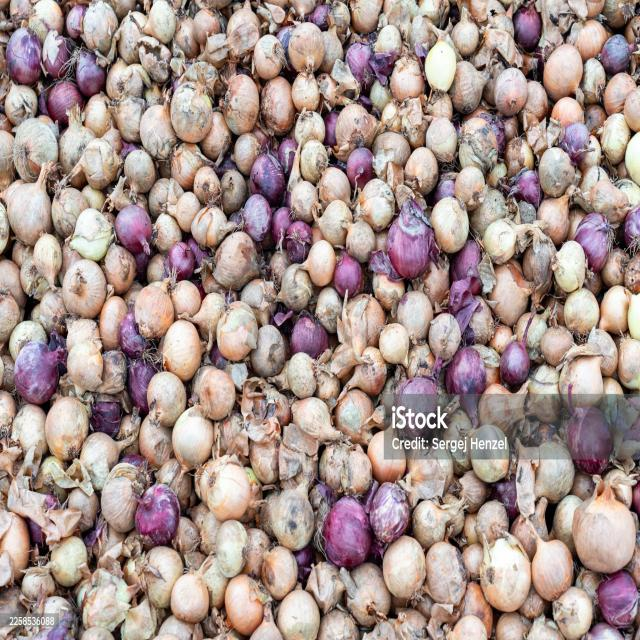rotten: (572, 478, 636, 574), (478, 531, 532, 612), (6, 160, 56, 247), (80, 566, 138, 634), (527, 522, 575, 603), (386, 199, 434, 280), (566, 389, 612, 470), (323, 493, 373, 567), (13, 339, 66, 403), (211, 230, 262, 294), (204, 457, 254, 522), (342, 560, 388, 630), (484, 261, 531, 329), (424, 540, 468, 610), (413, 492, 468, 548), (61, 258, 108, 322), (169, 76, 213, 144), (266, 486, 312, 550), (45, 397, 90, 462), (12, 117, 57, 182), (171, 406, 215, 472), (224, 573, 269, 637), (382, 537, 424, 605), (135, 483, 180, 546), (57, 103, 95, 177), (66, 209, 116, 264), (142, 546, 184, 610), (331, 387, 378, 444), (344, 292, 387, 354), (78, 432, 123, 491), (396, 374, 438, 437), (217, 301, 260, 362), (100, 471, 142, 533), (445, 345, 487, 407), (222, 73, 262, 138), (522, 226, 560, 294), (478, 386, 524, 442), (139, 95, 178, 161), (160, 320, 202, 381), (134, 282, 176, 343), (369, 481, 409, 545), (542, 43, 584, 103), (559, 350, 604, 406), (305, 560, 347, 620), (77, 134, 121, 190), (573, 213, 613, 274), (596, 570, 638, 628), (469, 425, 511, 482), (532, 445, 574, 502), (457, 119, 499, 176), (145, 371, 186, 428), (170, 566, 210, 624), (260, 543, 300, 601), (196, 366, 237, 422), (259, 76, 296, 138), (65, 338, 105, 395), (214, 520, 252, 580), (468, 187, 510, 241), (189, 292, 228, 350), (403, 450, 448, 500), (430, 196, 468, 255), (10, 403, 48, 462), (276, 588, 319, 640), (553, 586, 594, 640), (292, 395, 338, 443), (586, 175, 632, 223), (6, 26, 42, 86), (448, 59, 487, 114), (334, 101, 373, 156), (49, 536, 90, 588), (138, 412, 176, 468), (25, 486, 61, 545), (526, 362, 565, 416), (109, 91, 148, 145), (190, 203, 232, 253), (550, 240, 588, 295), (114, 203, 152, 258), (82, 0, 118, 58), (51, 185, 87, 243), (599, 394, 635, 452), (287, 21, 325, 75), (0, 512, 31, 578), (538, 146, 577, 198), (250, 152, 286, 208), (356, 180, 394, 233), (563, 286, 600, 340), (339, 445, 375, 500), (249, 326, 287, 378), (200, 552, 234, 610), (367, 430, 402, 486), (551, 495, 584, 554), (396, 290, 432, 344), (126, 355, 160, 412), (536, 191, 572, 244), (451, 238, 485, 294), (290, 310, 328, 360), (479, 25, 521, 70), (493, 66, 529, 118), (598, 111, 632, 166), (32, 232, 63, 292), (429, 311, 463, 365), (103, 242, 137, 296), (225, 1, 261, 52), (346, 38, 380, 92), (481, 217, 518, 266), (199, 110, 233, 163), (584, 326, 618, 379), (240, 192, 274, 245), (169, 140, 205, 190), (317, 198, 353, 248), (8, 319, 46, 366), (248, 436, 282, 488), (328, 56, 362, 108), (181, 59, 223, 101), (389, 54, 424, 104), (403, 147, 438, 197), (459, 582, 492, 635), (114, 10, 145, 66), (600, 284, 632, 338), (573, 18, 609, 66), (47, 79, 83, 127), (135, 36, 171, 84), (41, 29, 74, 81), (252, 32, 287, 81), (474, 499, 509, 548), (123, 147, 158, 196), (98, 294, 128, 351), (444, 406, 474, 463), (280, 263, 314, 313), (602, 72, 637, 120), (420, 255, 451, 309), (37, 593, 75, 637), (302, 239, 336, 288), (286, 351, 320, 400), (165, 190, 202, 235), (424, 40, 456, 92), (372, 130, 408, 176), (510, 506, 540, 560), (242, 528, 273, 580), (142, 0, 177, 46), (290, 68, 322, 118), (97, 348, 129, 398), (514, 311, 548, 358), (65, 486, 99, 533), (343, 218, 376, 266), (288, 180, 321, 228), (240, 278, 276, 322), (19, 561, 55, 605), (512, 1, 543, 52), (317, 165, 352, 210), (424, 118, 456, 167), (540, 322, 574, 368), (35, 456, 70, 500), (372, 269, 406, 314), (298, 139, 329, 188), (333, 250, 364, 299), (169, 278, 202, 324), (4, 82, 37, 128), (506, 168, 542, 210), (118, 306, 147, 358), (232, 131, 264, 178), (378, 322, 409, 370), (192, 3, 223, 51), (216, 410, 247, 458), (559, 121, 592, 166), (454, 165, 486, 211), (76, 48, 106, 97), (194, 507, 224, 556), (293, 108, 326, 152), (316, 607, 360, 640), (405, 341, 438, 385), (314, 285, 344, 333), (467, 299, 496, 348), (456, 471, 489, 514), (37, 287, 67, 334), (575, 567, 605, 614), (82, 93, 112, 139), (151, 212, 183, 255), (0, 258, 25, 313), (219, 168, 247, 216), (600, 33, 631, 76), (346, 146, 374, 193), (172, 17, 201, 62), (165, 241, 196, 283), (95, 521, 126, 563), (319, 23, 344, 75), (616, 334, 640, 388), (580, 57, 607, 105), (0, 586, 27, 634), (148, 178, 178, 221), (193, 164, 222, 208), (64, 317, 100, 352), (392, 606, 429, 640), (31, 0, 64, 38), (0, 288, 22, 345), (88, 398, 121, 436), (199, 31, 232, 69), (504, 135, 533, 178), (276, 24, 300, 75), (450, 16, 479, 58), (284, 220, 313, 262), (408, 14, 439, 53), (172, 516, 201, 556), (154, 457, 183, 497), (550, 96, 584, 130), (374, 23, 404, 61), (522, 80, 549, 122), (491, 478, 519, 518), (105, 60, 131, 103), (524, 613, 565, 640), (19, 253, 43, 299), (350, 1, 383, 34), (276, 137, 300, 181), (266, 384, 291, 426), (116, 412, 142, 452), (270, 206, 294, 249), (386, 1, 416, 35), (604, 466, 634, 500), (577, 164, 603, 202), (61, 237, 85, 278), (190, 364, 214, 404), (426, 90, 454, 124), (538, 0, 572, 28), (600, 0, 633, 28), (327, 0, 351, 38), (487, 7, 516, 38), (461, 542, 484, 581), (268, 250, 290, 288), (292, 544, 314, 582), (431, 174, 457, 206), (369, 78, 392, 114), (80, 185, 108, 214), (64, 4, 86, 40), (417, 0, 446, 27), (584, 104, 608, 136), (261, 1, 288, 29), (103, 0, 137, 22), (102, 122, 124, 156), (322, 110, 341, 148), (462, 0, 492, 24), (306, 4, 332, 30), (3, 180, 23, 213), (9, 0, 33, 27), (146, 253, 166, 284), (12, 238, 31, 270), (34, 114, 59, 138), (624, 14, 640, 48), (144, 82, 164, 108), (288, 0, 318, 17)
